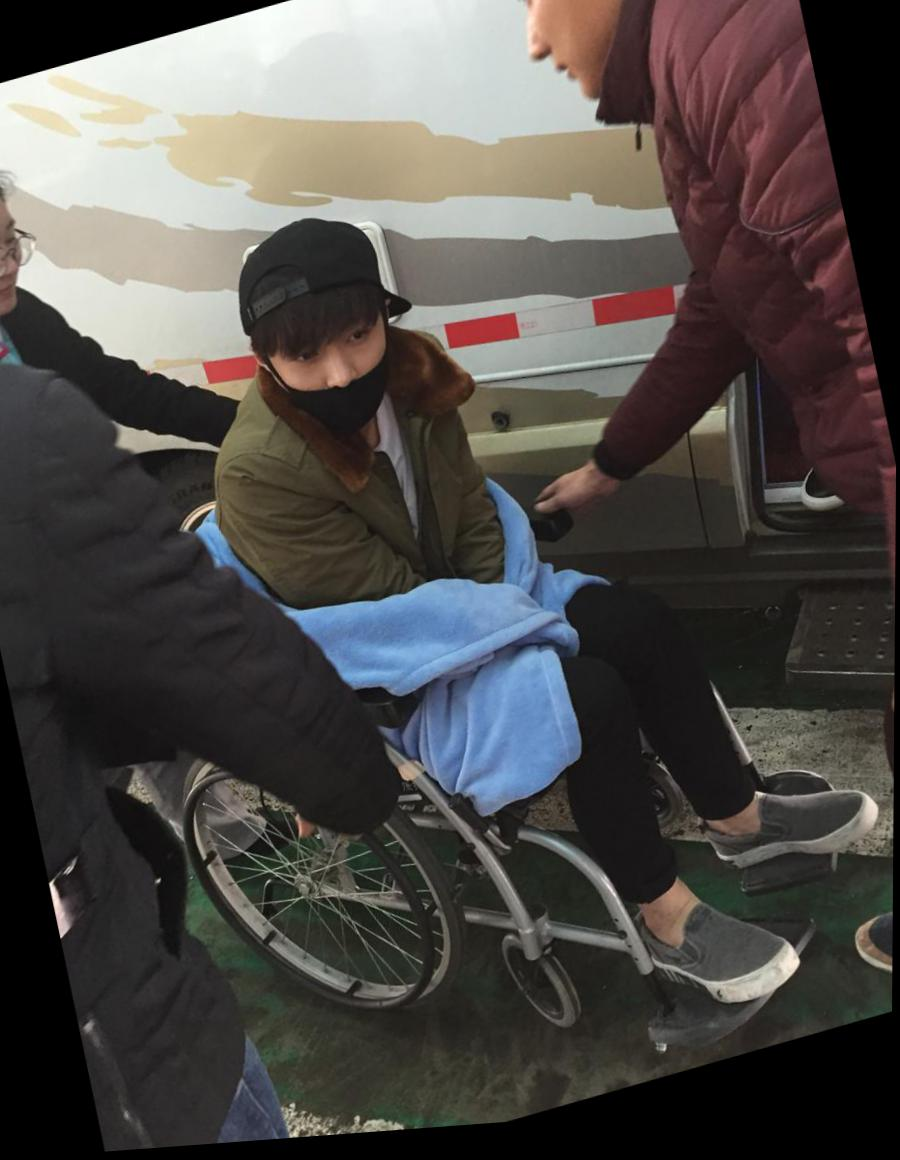NONE: (491, 1, 673, 133), (1, 199, 43, 329)
WRONG: (272, 307, 403, 445)
